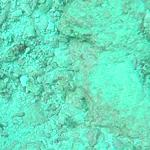dead: (2, 1, 148, 147)
